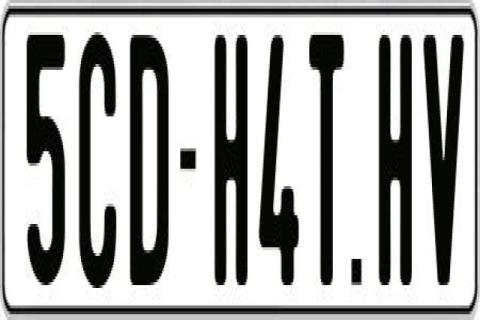0: (27, 26, 71, 276), (258, 35, 298, 299)
C: (76, 26, 119, 291)
D: (129, 35, 171, 285)
H: (213, 35, 248, 288), (376, 35, 408, 294)
T: (308, 32, 344, 294)
V: (422, 35, 464, 297)
